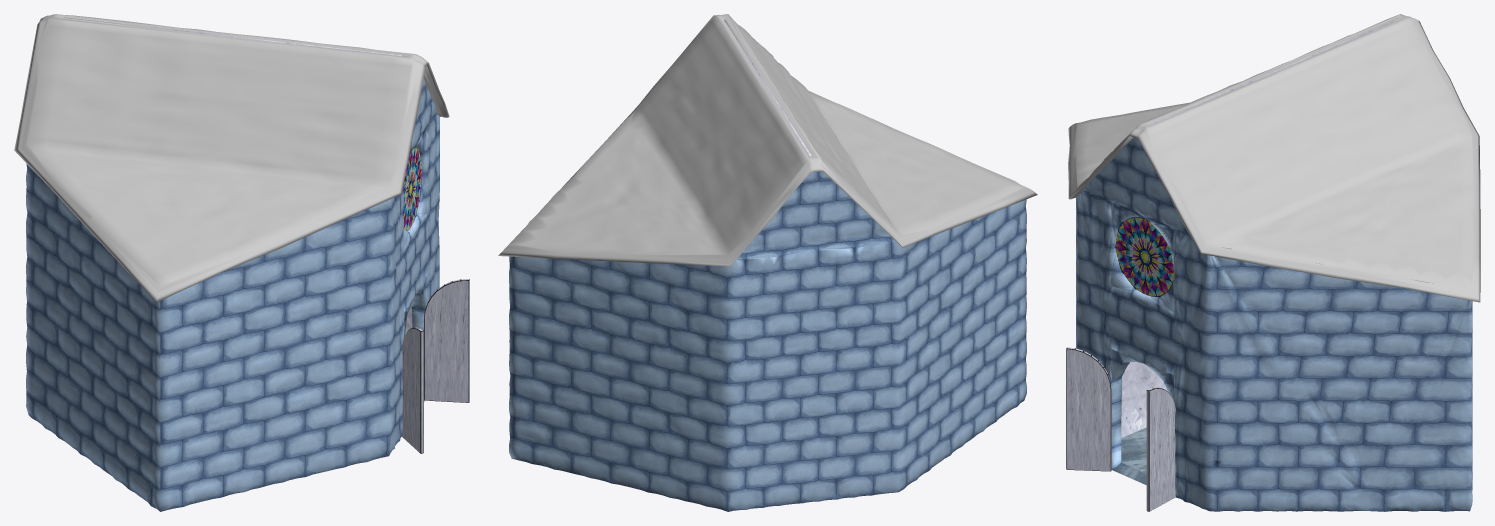
Rendered from keep.fbx.
3 views of the same model, side by side, from view 1: azimuth 30°, elevation 25°; view 2: azimuth 150°, elevation 25°; view 3: azimuth 270°, elevation 25° (orthographic). The views are drawn at different scales.
Visible parts, largest first — view 1: Cube, Cube_004, Cube_002, Cube_001, Cube_003; view 2: Cube, Cube_004; view 3: Cube, Cube_004, Cube_001, Cube_003, Cube_002.
Boxes of the visible parts, box(x1,y1,x2,y2) form: Cube: box(26, 17, 439, 511); Cube_004: box(14, 14, 449, 302); Cube_002: box(424, 279, 469, 402); Cube_001: box(402, 327, 423, 453); Cube_003: box(403, 147, 421, 231); Cube: box(509, 20, 1026, 511); Cube_004: box(498, 14, 1037, 266); Cube: box(1076, 19, 1472, 511); Cube_004: box(1068, 14, 1480, 302); Cube_001: box(1066, 347, 1111, 471); Cube_003: box(1115, 217, 1174, 297); Cube_002: box(1146, 387, 1175, 511).
Size of the model in its own units: 8.39 by 8.03 by 8.43.
